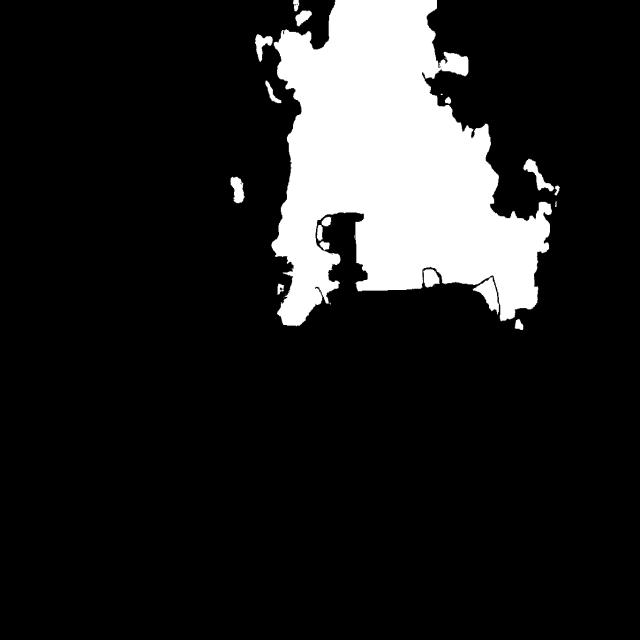fire: (217, 6, 623, 403)
